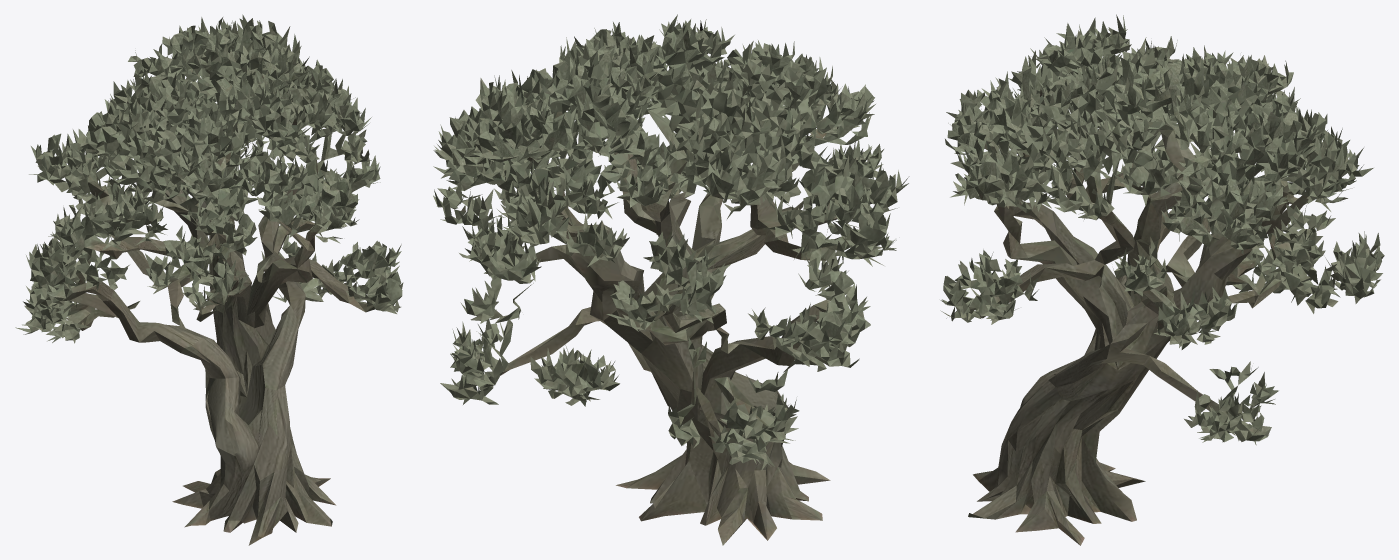
The model's file is olive-tree.glb.
3 renders of one model, left to right at view 1: azimuth 30°, elevation 25°; view 2: azimuth 150°, elevation 25°; view 3: azimuth 270°, elevation 25°, orthographic. The views are drawn at different scales.
Visible parts, largest first — view 1: olive-tree; view 2: olive-tree; view 3: olive-tree.
Boxes of the visible parts, left/top/right/bottom form: olive-tree: left=15, top=14, right=403, bottom=545; olive-tree: left=433, top=14, right=909, bottom=545; olive-tree: left=940, top=14, right=1384, bottom=545.
Size of the model in its own units: 4.18 by 5 by 4.35.
Materials: 1 (1 with a texture image).
